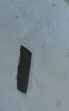Spalling: (16, 44, 32, 95)
